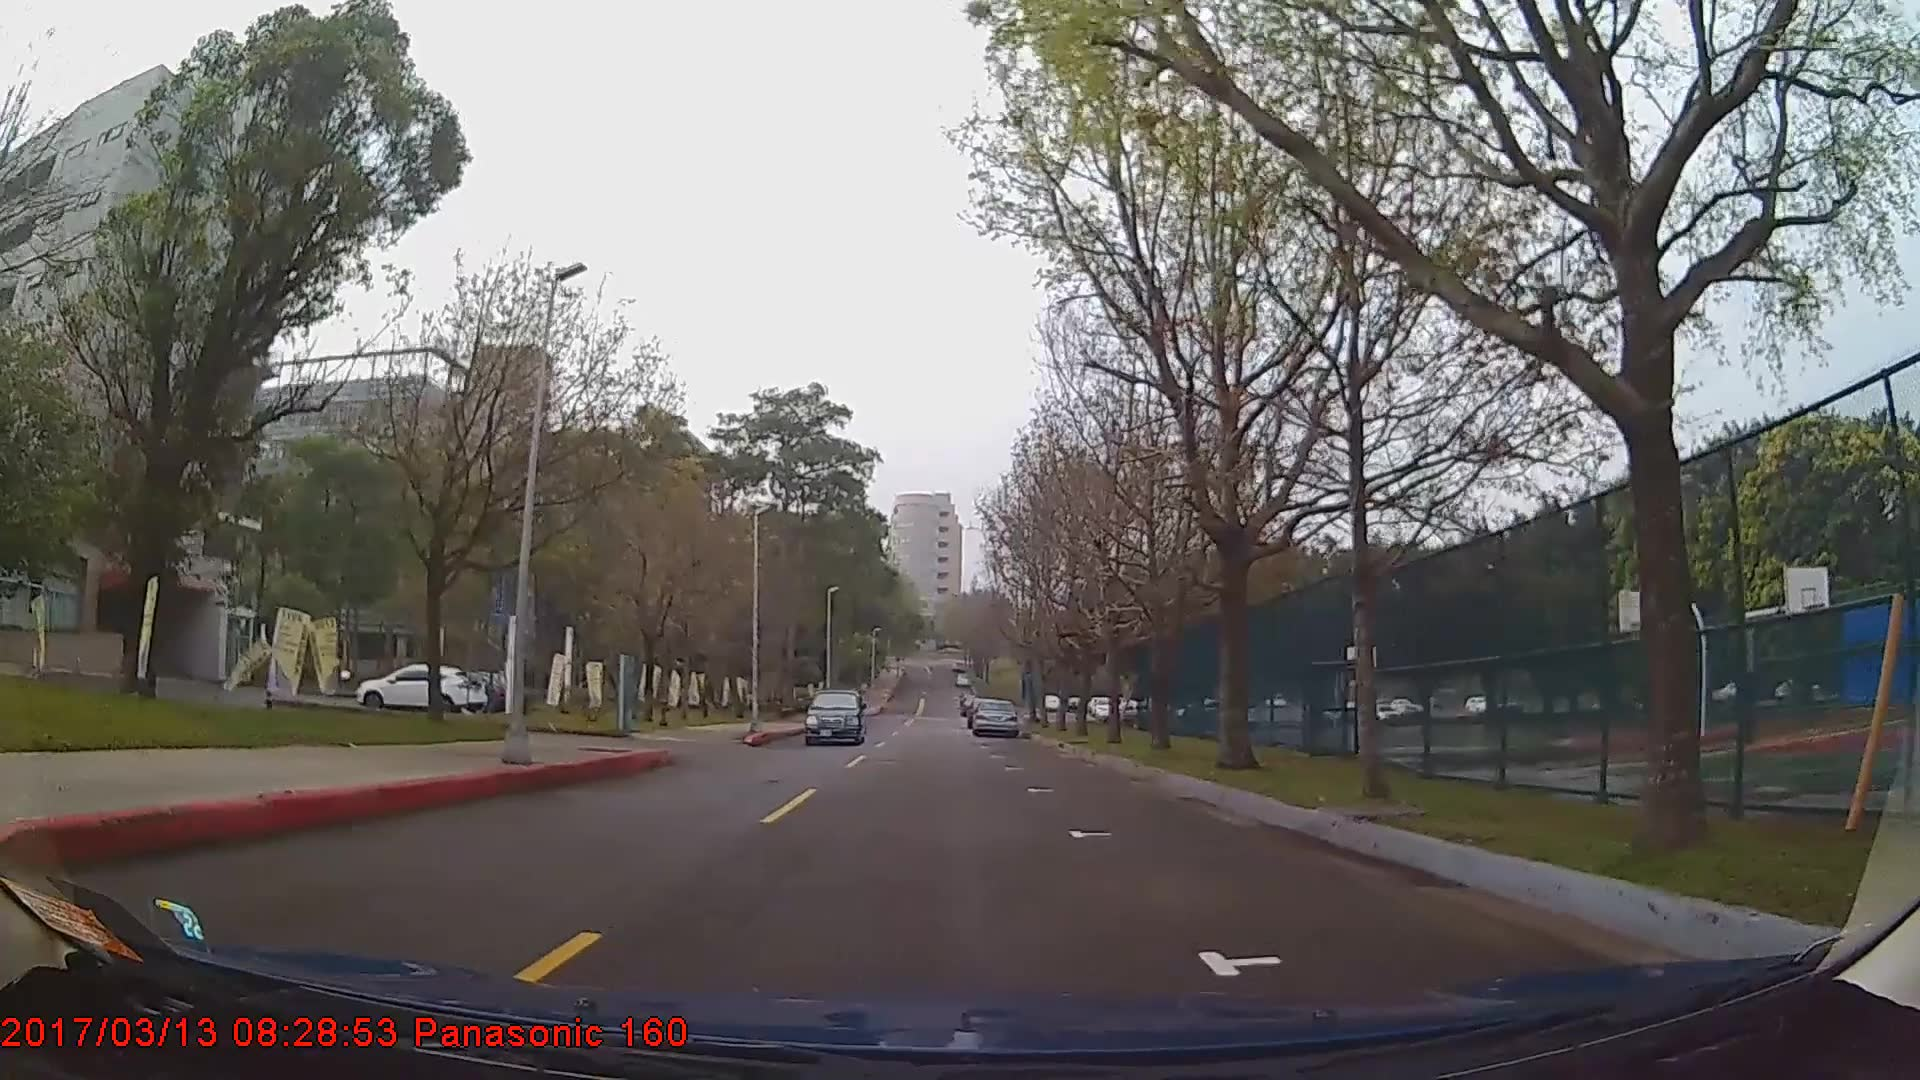vehicle: (353, 661, 483, 717), (800, 691, 862, 748), (969, 699, 1015, 741)
